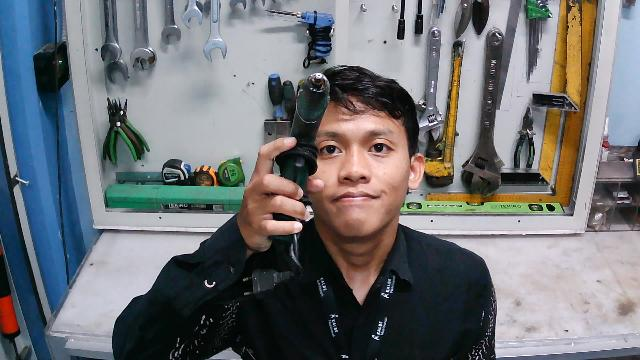gun_lem: (240, 71, 331, 300)
